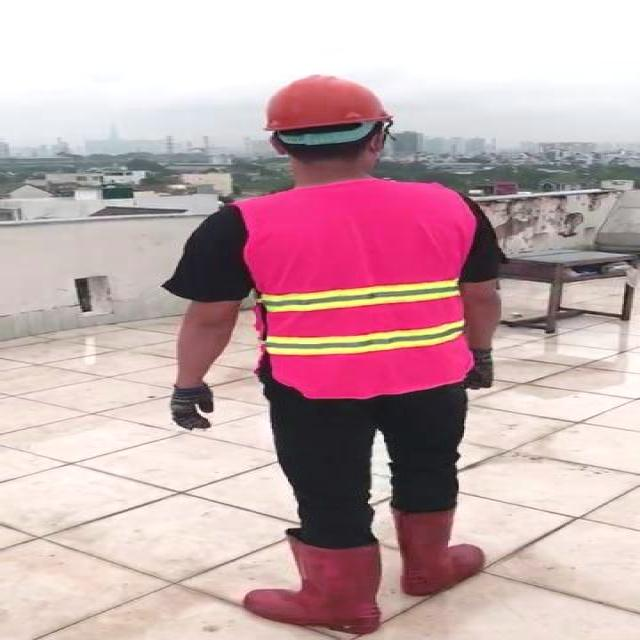boots: (242, 535, 384, 633), (394, 499, 490, 595)
hand_glove: (171, 383, 215, 432)
head_helmet: (257, 70, 404, 138)
person: (137, 72, 533, 640)
vest: (249, 181, 473, 399)
